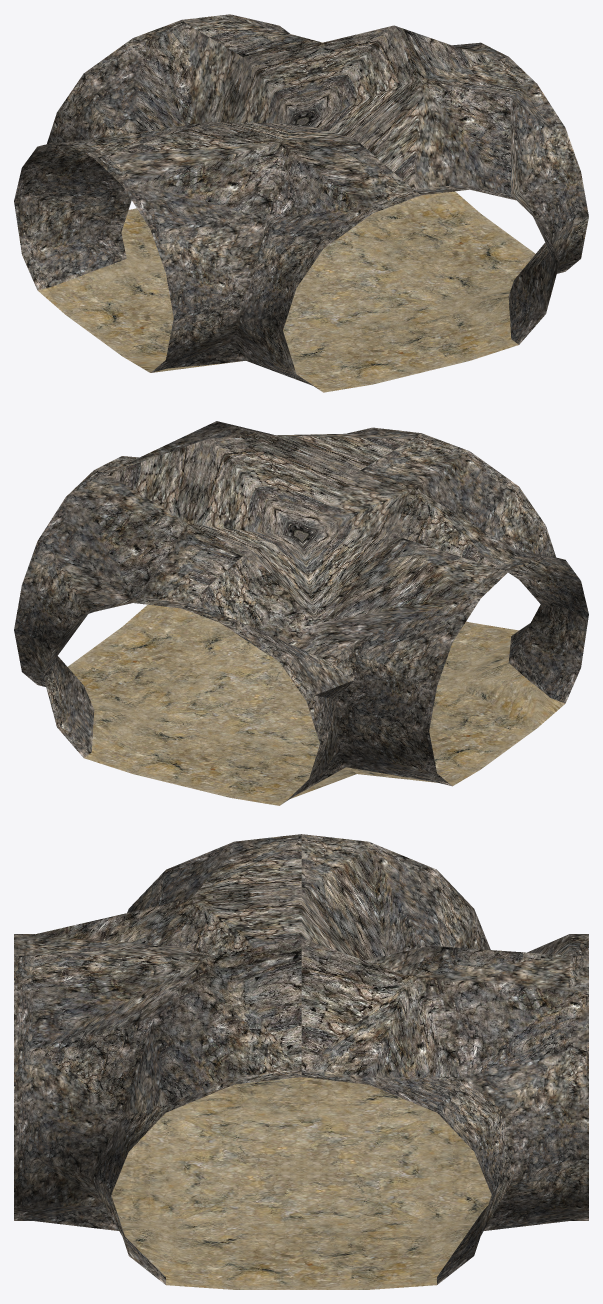
Rendered from pir_m_are_cav_fourway150.fbx.
The picture shows the model from 3 angles, top to bottom: view 1: azimuth 30°, elevation 25°; view 2: azimuth 150°, elevation 25°; view 3: azimuth 270°, elevation 25°; orthographic projection. The views are drawn at different scales.
Parts seen in each view (by area): view 1: fourway150_wall, fourway150_floor; view 2: fourway150_wall, fourway150_floor; view 3: fourway150_wall, fourway150_floor.
Boxes of the visible parts, bbox=[...] form: fourway150_wall: bbox=[14, 14, 588, 389]; fourway150_floor: bbox=[38, 191, 535, 392]; fourway150_wall: bbox=[14, 421, 588, 804]; fourway150_floor: bbox=[68, 604, 565, 805]; fourway150_wall: bbox=[14, 834, 588, 1284]; fourway150_floor: bbox=[111, 1077, 491, 1289].
Size of the model in its own units: 15000 by 8224 by 15000.
2 materials, 2 textured.
